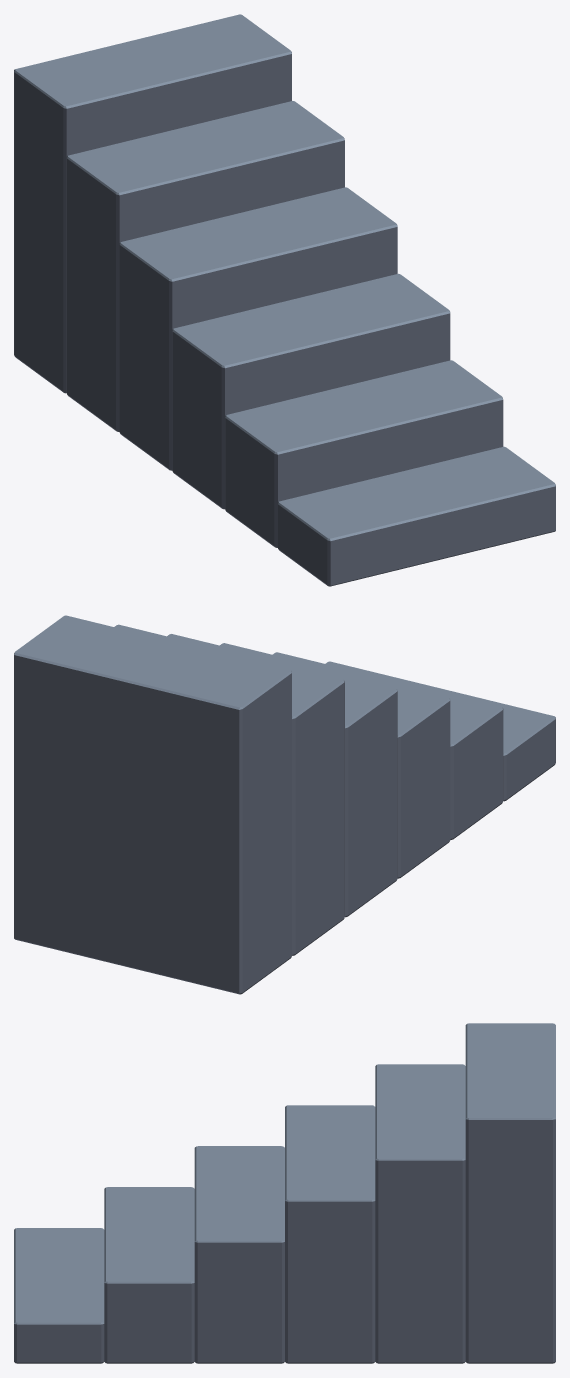
File: stair-narrow.glb
The picture shows the model from 3 angles, top to bottom: view 1: azimuth 30°, elevation 25°; view 2: azimuth 150°, elevation 25°; view 3: azimuth 270°, elevation 25°; orthographic projection. The views are drawn at different scales.
Visible parts, largest first — view 1: stair-narrow__body; view 2: stair-narrow__body; view 3: stair-narrow__body.
Boxes of the visible parts, box(x1,y1,x2,y2) form: stair-narrow__body: box(14, 14, 555, 586); stair-narrow__body: box(14, 615, 555, 994); stair-narrow__body: box(14, 1023, 555, 1363).
Size of the model in its own units: 1 by 1.2 by 2.4.
